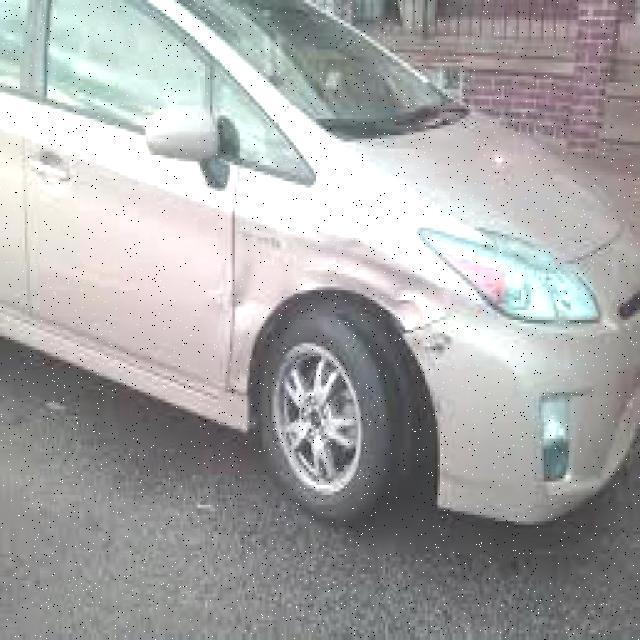car damage: (210, 222, 482, 497)
